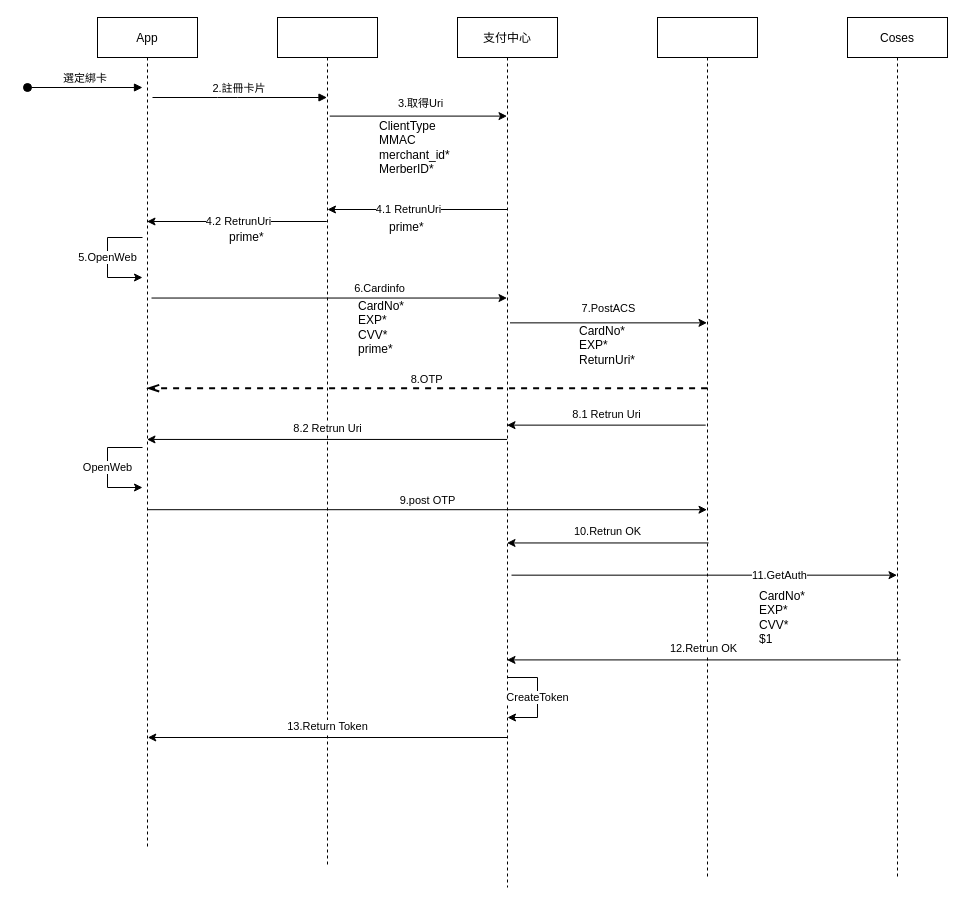
Some shapes in this 965 by 905 pixel diagram are drawn without their labels. Each missing label, with the box of its shape:
3Ds2.0: (656, 16, 758, 878)
AppServer: (276, 16, 378, 868)
